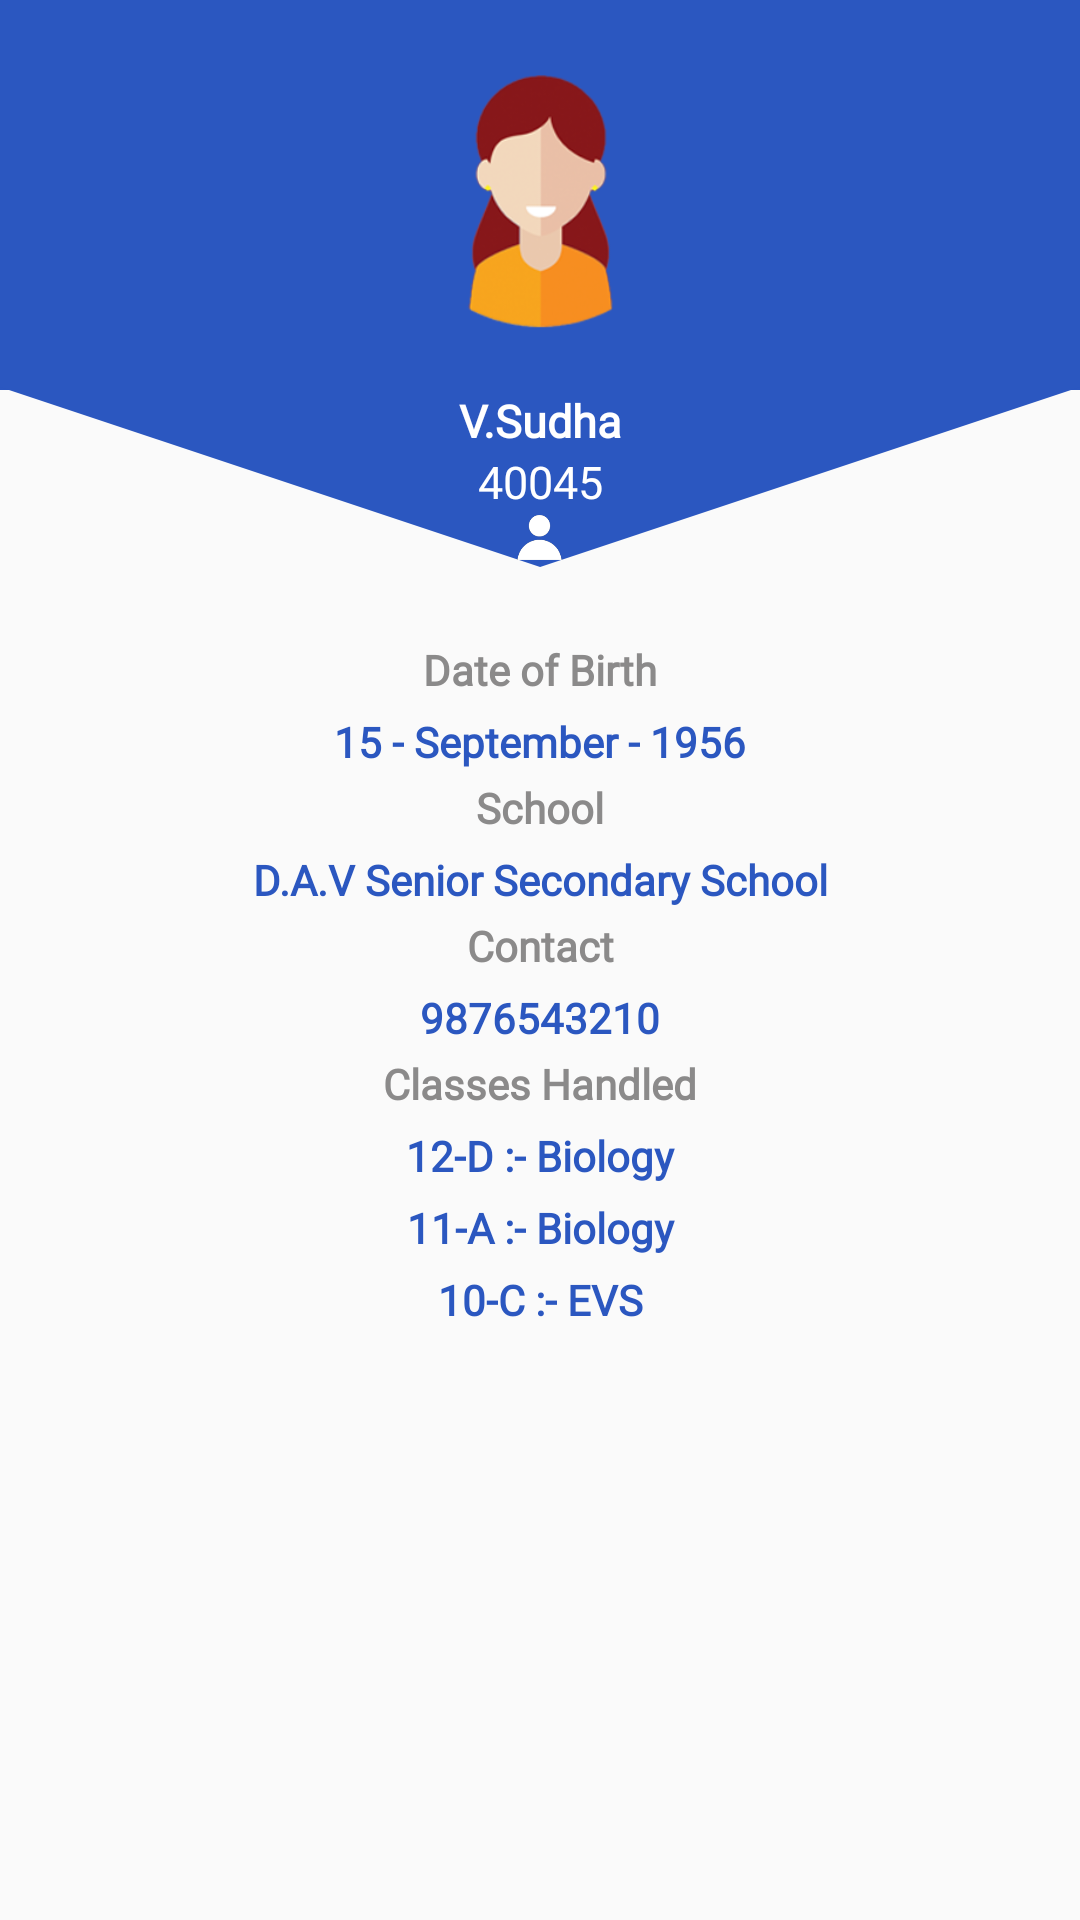

Icon bounding boxes for this 1080px x 1920px phone screenshot, format BBox(x1, y1, x2, y2):
femalefigure: BBox(468, 75, 613, 328)
